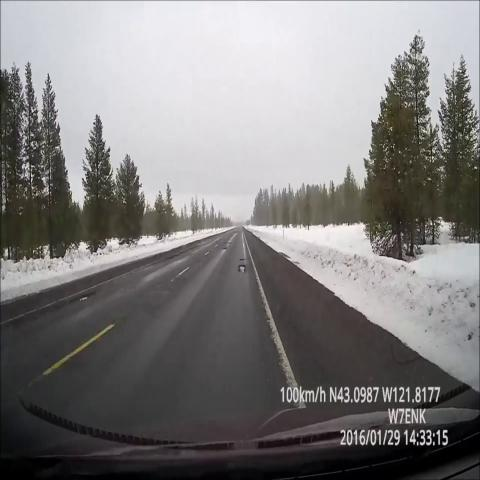pothole: (66, 290, 97, 314), (237, 252, 251, 284), (219, 240, 232, 257)
